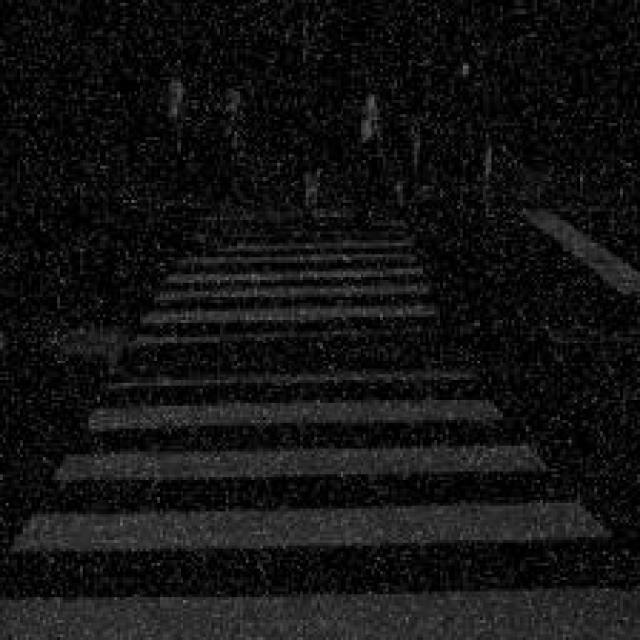zebra: (6, 205, 640, 640)
